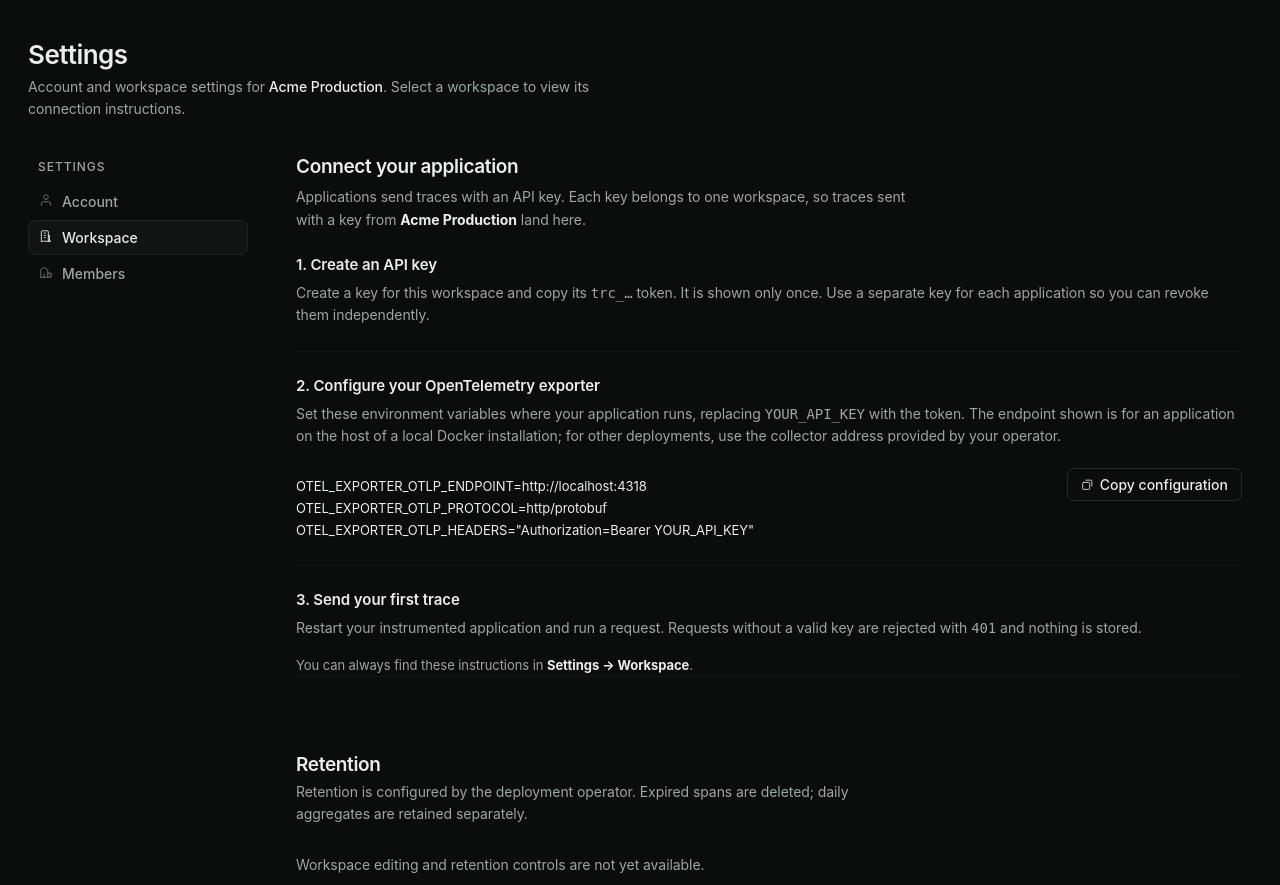
Test: members › says when the invite was emailed and still offers the link
Click the button "Members" at (138, 274), box [28,256,248,291]
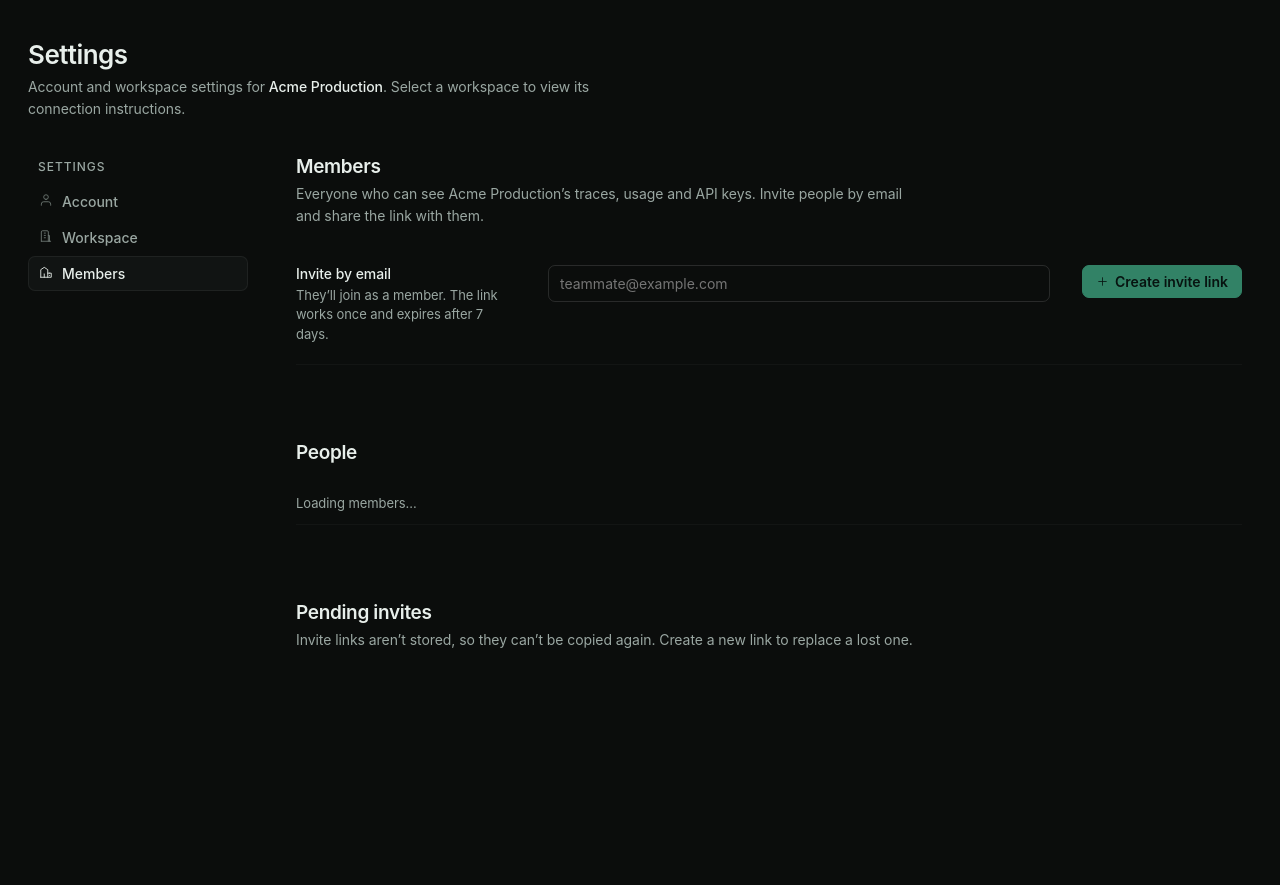
Type "dave@acme.dev" into the field named "Invite email" at (799, 283), box [560,266,1038,301]
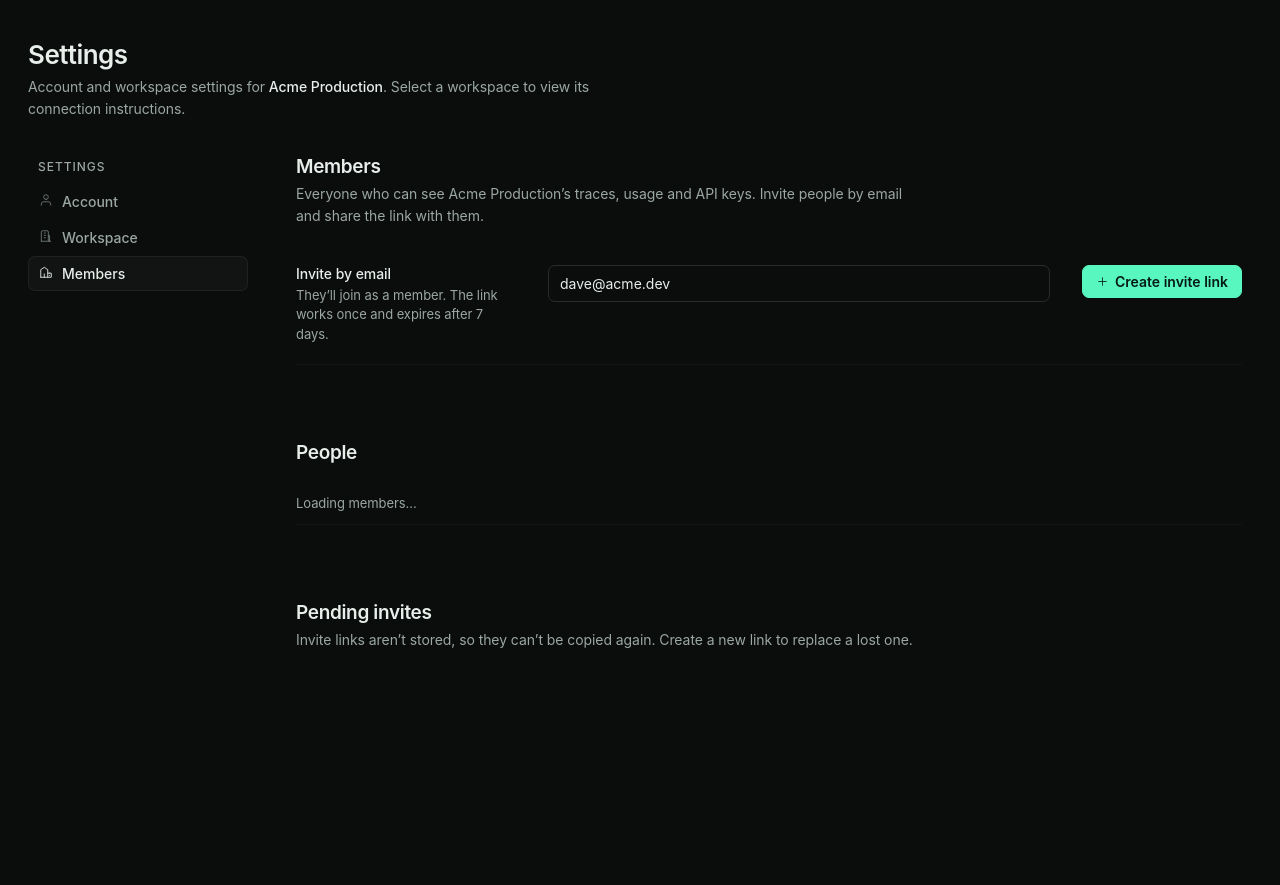
Click the button "Create invite link" at (1162, 281), box [1082,265,1242,298]
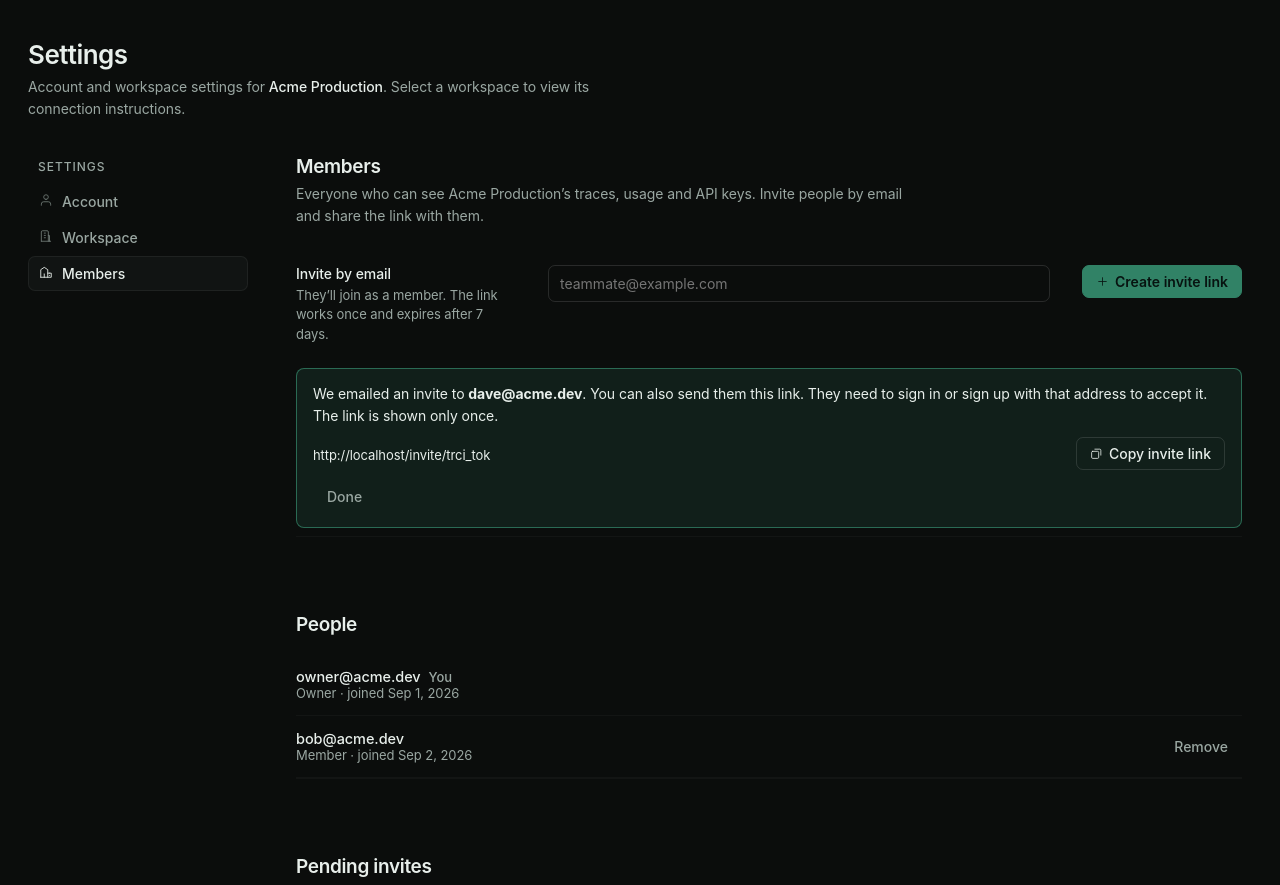
Now the text "We emailed an invite to" shows "dave@acme.dev", box [468,385,582,402]
